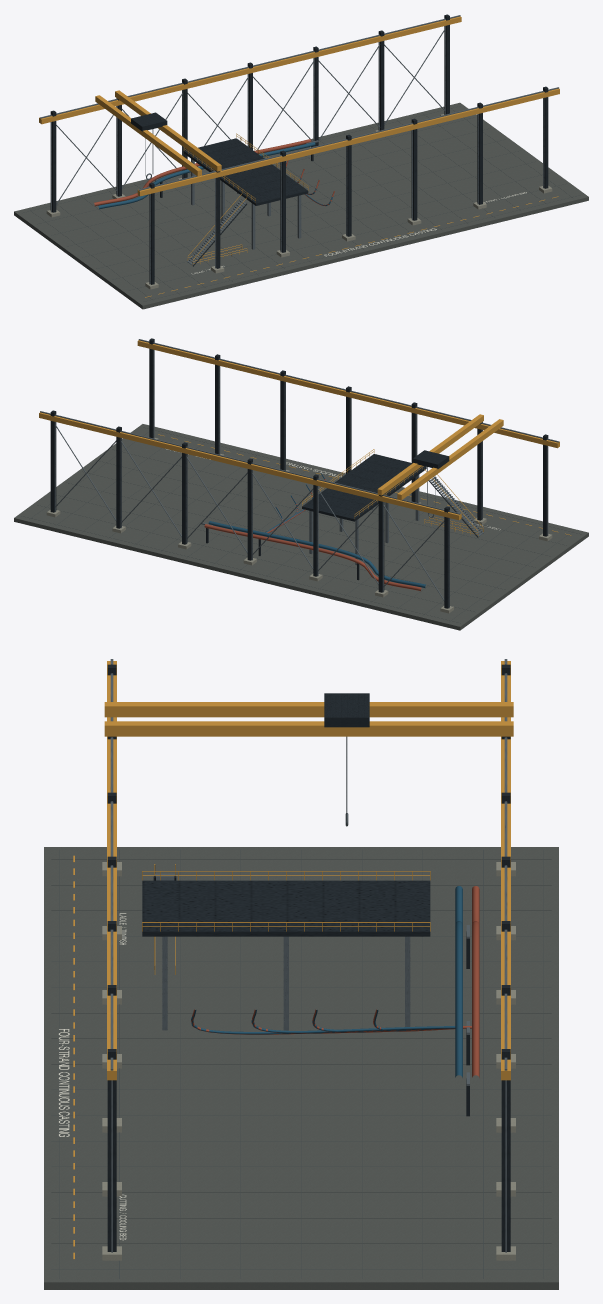
File: steel-site.4fc6c295bb34.glb
3 renders of one model, top to bottom at view 1: azimuth 30°, elevation 25°; view 2: azimuth 150°, elevation 25°; view 3: azimuth 270°, elevation 25°, orthographic. The views are drawn at different scales.
Visible parts, largest first — view 1: structure_slab_00246, structure_dark_00249, structure_yellow_00251, structure_steel_00250, structure_edge_00247, structure_warm_00253, structure_blue_00252, structure_concrete_00248; view 2: structure_slab_00246, structure_dark_00249, structure_yellow_00251, structure_steel_00250, structure_edge_00247, structure_blue_00252, structure_warm_00253, structure_concrete_00248; view 3: structure_slab_00246, structure_dark_00249, structure_yellow_00251, structure_edge_00247, structure_steel_00250, structure_blue_00252, structure_concrete_00248, structure_warm_00253, structure_white_00254.
Boxes of the visible parts, box(x1,y1,x2,y2) form: structure_slab_00246: box(14, 102, 588, 309); structure_dark_00249: box(50, 14, 548, 284); structure_yellow_00251: box(39, 16, 559, 297); structure_steel_00250: box(40, 15, 558, 284); structure_edge_00247: box(23, 106, 580, 301); structure_warm_00253: box(94, 139, 334, 206); structure_blue_00252: box(98, 142, 332, 209); structure_concrete_00248: box(46, 114, 552, 289); structure_slab_00246: box(14, 424, 588, 630); structure_dark_00249: box(50, 338, 548, 608); structure_yellow_00251: box(39, 340, 571, 536); structure_steel_00250: box(40, 339, 559, 608); structure_edge_00247: box(23, 427, 580, 623); structure_blue_00252: box(208, 473, 425, 587); structure_warm_00253: box(204, 474, 421, 591); structure_concrete_00248: box(46, 438, 552, 613); structure_slab_00246: box(44, 847, 558, 1289); structure_dark_00249: box(107, 664, 510, 1251); structure_yellow_00251: box(73, 661, 513, 1259); structure_edge_00247: box(51, 849, 551, 1278); structure_steel_00250: box(110, 659, 507, 1252); structure_blue_00252: box(191, 886, 462, 1077); structure_concrete_00248: box(102, 862, 515, 1260); structure_warm_00253: box(191, 886, 479, 1077); structure_white_00254: box(58, 913, 126, 1240).
Bounding box in the file's own units: 68 × 16.67 × 34.
9 materials, 4 textured.
